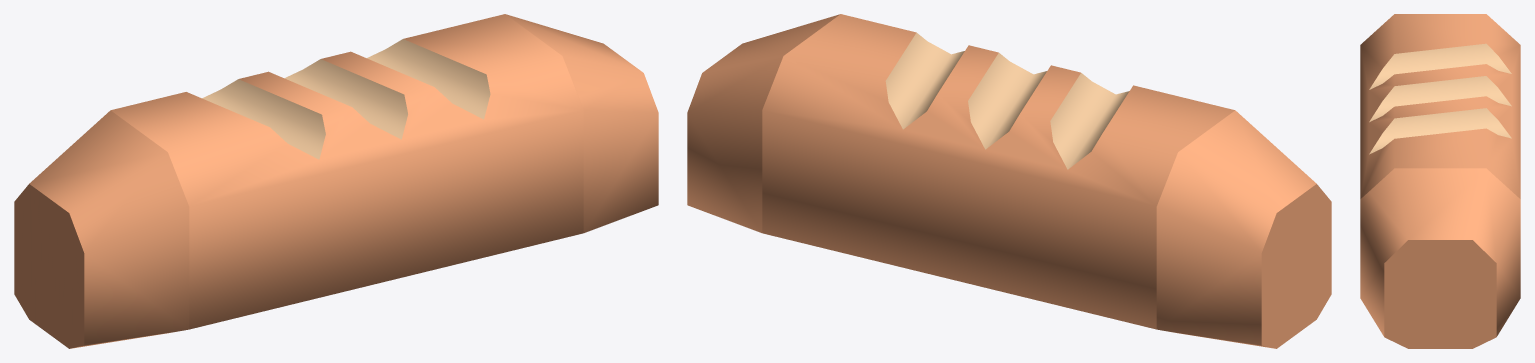
The model's file is loafBaguette.obj.
3 renders of one model, left to right at view 1: azimuth 30°, elevation 25°; view 2: azimuth 150°, elevation 25°; view 3: azimuth 270°, elevation 25°, orthographic. The views are drawn at different scales.
Visible parts, largest first — view 1: loafBaguette; view 2: loafBaguette; view 3: loafBaguette.
Boxes of the visible parts, x1,y1,x2,y2 form: loafBaguette: [14, 14, 658, 348]; loafBaguette: [687, 14, 1331, 348]; loafBaguette: [1360, 14, 1520, 348].
Bounding box in the file's own units: 0.83 × 0.25 × 0.25.
